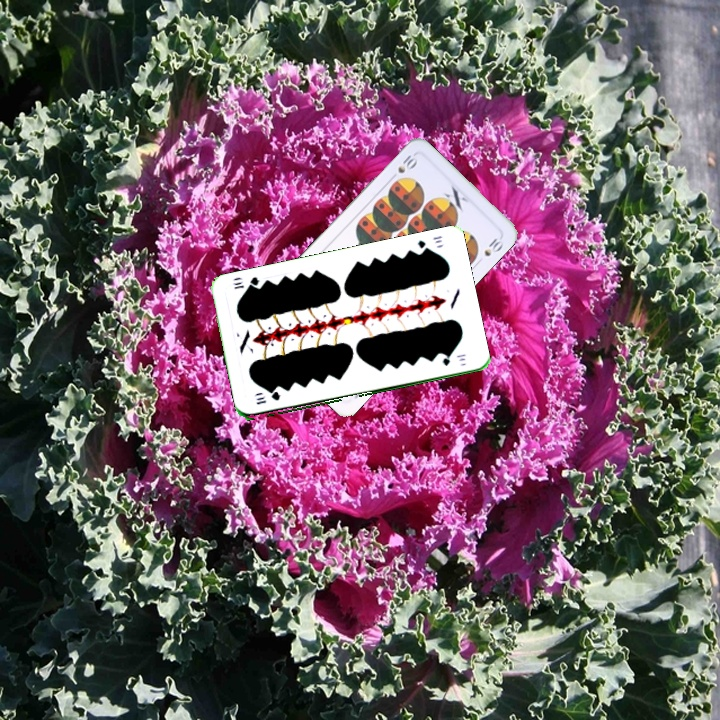G10: (414, 232, 445, 255), (252, 389, 282, 407)
S10: (386, 150, 420, 183)
